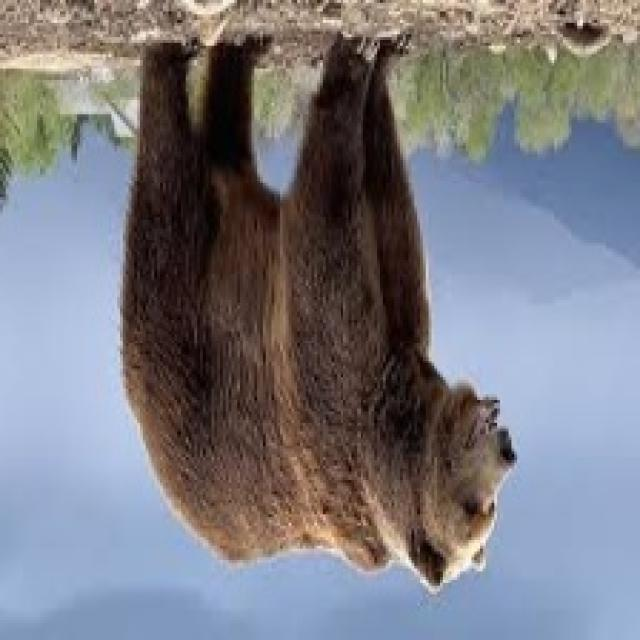bear: (77, 0, 552, 603)
